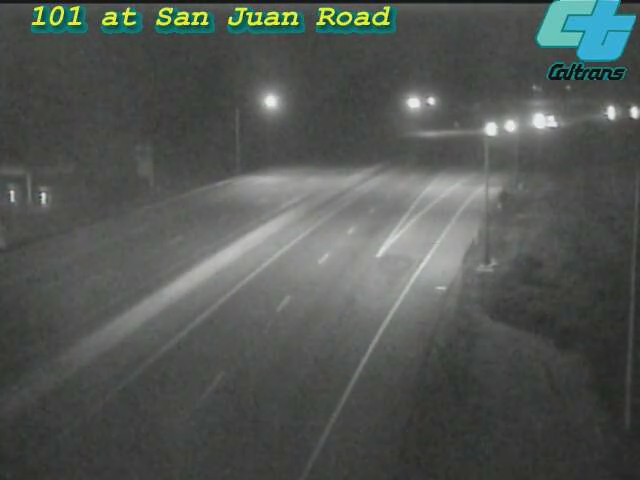vehicle: (526, 97, 576, 147), (464, 104, 514, 154), (513, 96, 563, 146), (482, 102, 532, 152), (584, 88, 634, 138), (607, 87, 640, 137)
